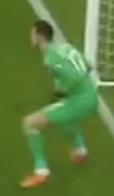goalkeeper: (17, 6, 114, 196)
